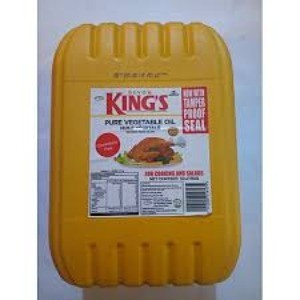vegetable oil_brain food: (51, 63, 224, 260)
